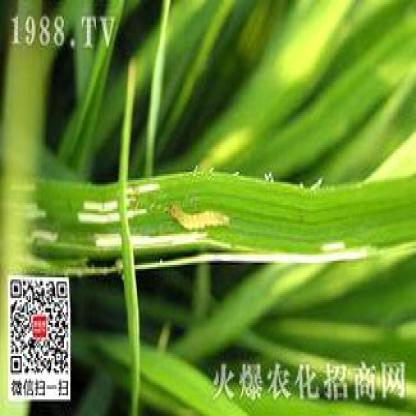leaf-folder: (155, 187, 231, 244)
